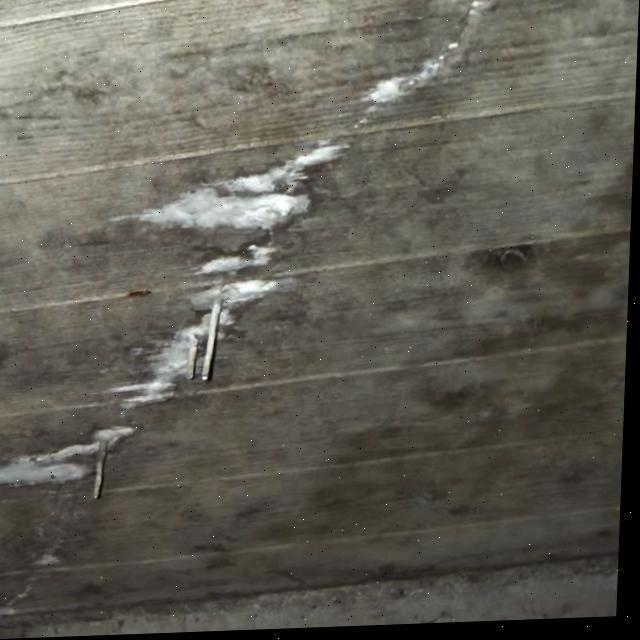D01: (114, 278, 277, 409), (134, 138, 346, 228), (2, 422, 137, 485), (366, 50, 449, 109), (198, 254, 268, 277)
